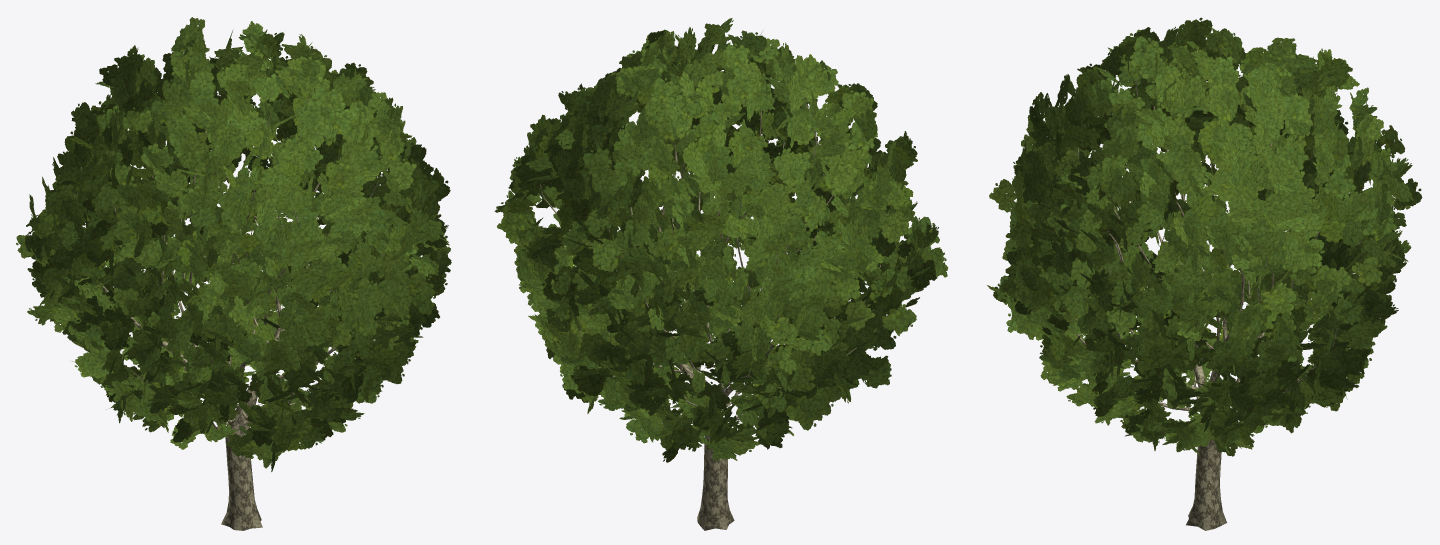
File: arbre_platane_lod0.glb
3 renders of one model, left to right at view 1: azimuth 30°, elevation 25°; view 2: azimuth 150°, elevation 25°; view 3: azimuth 270°, elevation 25°, orthographic.
Visible parts, largest first — view 1: arbre_platane_lod0; view 2: arbre_platane_lod0; view 3: arbre_platane_lod0.
Part boxes in pixels (x1=…): arbre_platane_lod0: x1=16, y1=17, x2=451, y2=530; arbre_platane_lod0: x1=494, y1=18, x2=948, y2=530; arbre_platane_lod0: x1=987, y1=17, x2=1422, y2=530.
Bounding box in the file's own units: 12.62 × 15.1 × 12.46.
Materials: 2 (2 with a texture image).
